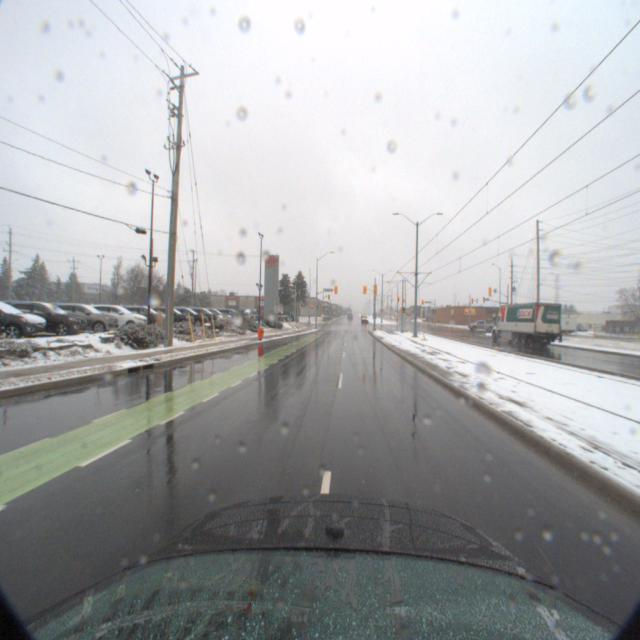Car: (31, 294, 119, 326), (74, 296, 148, 325), (101, 296, 172, 323)
Truck: (493, 296, 575, 346)
